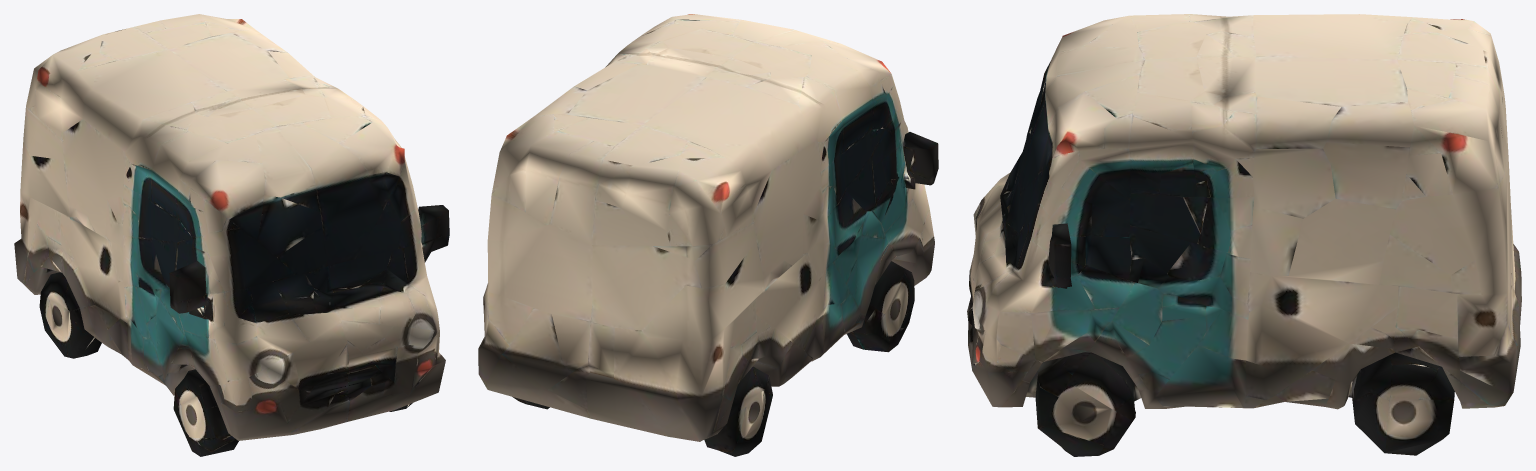
File: traffic-delivery-van.glb
3 renders of one model, left to right at view 1: azimuth 30°, elevation 25°; view 2: azimuth 150°, elevation 25°; view 3: azimuth 270°, elevation 25°, orthographic. The views are drawn at different scales.
Visible parts, largest first — view 1: mesh_node; view 2: mesh_node; view 3: mesh_node.
Boxes of the visible parts, x1,y1,x2,y2 form: mesh_node: (14,14,449,456); mesh_node: (478,14,938,456); mesh_node: (967,14,1521,456).
Bounding box in the file's own units: 2.85 × 2.84 × 4.19.
Materials: 1 (1 with a texture image).
